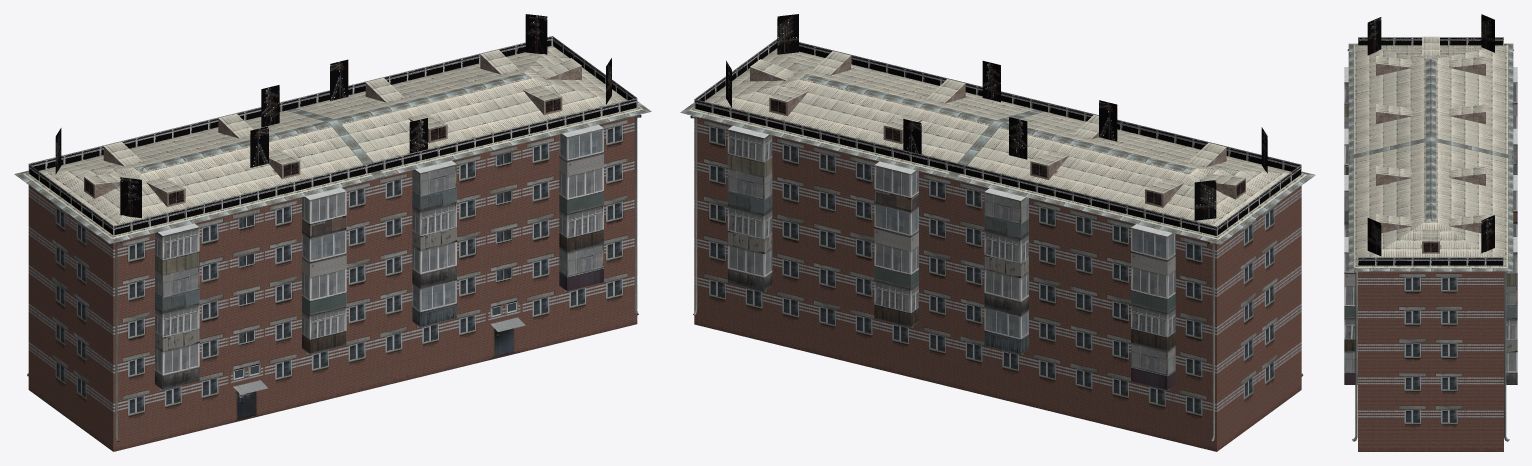
File: rus_build_5et_03c.fbx
3 renders of one model, left to right at view 1: azimuth 30°, elevation 25°; view 2: azimuth 150°, elevation 25°; view 3: azimuth 270°, elevation 25°, orthographic. The views are drawn at different scales.
Visible parts, largest first — view 1: Regroup13, rus_build_dec_01; view 2: Regroup13, rus_build_dec_01; view 3: Regroup13, rus_build_dec_01.
Boxes of the visible parts, box(x1,y1,x2,y2) form: Regroup13: box(14, 45, 651, 451); rus_build_dec_01: box(28, 14, 637, 235); Regroup13: box(680, 48, 1315, 451); rus_build_dec_01: box(694, 14, 1301, 235); Regroup13: box(1344, 36, 1517, 451); rus_build_dec_01: box(1358, 14, 1503, 265).
Size of the model in its own units: 4130 by 1925 by 1330.
